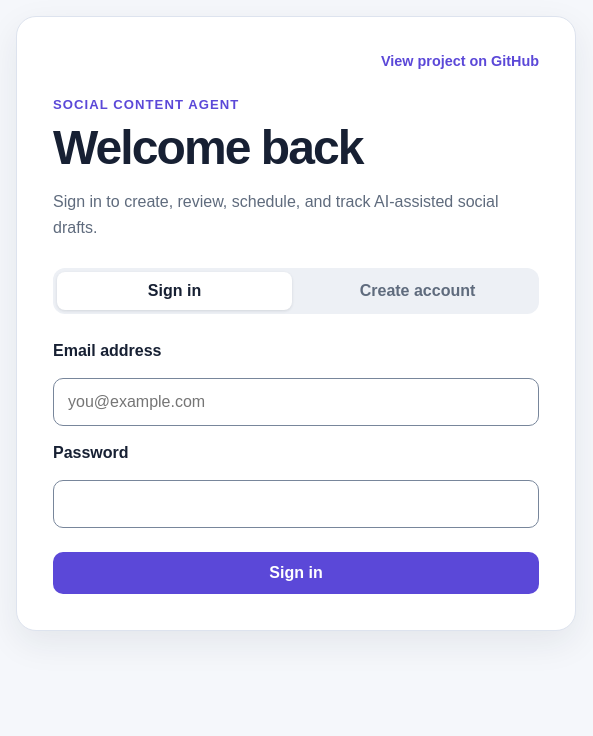
Test: supports keyboard mode switching and clears the old password
Type "old-password" into the password field labelled "Password".
click(296, 504); type("old-password")  # box [53, 480, 539, 528]
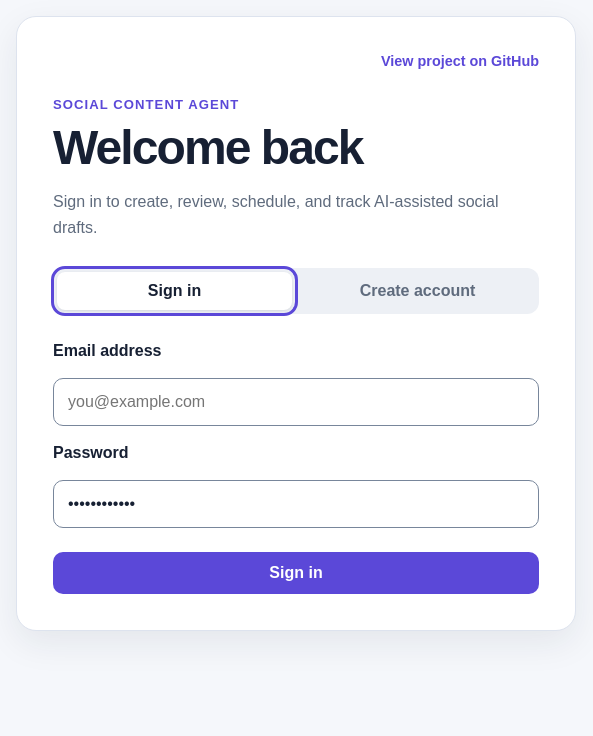
Press Arrowright
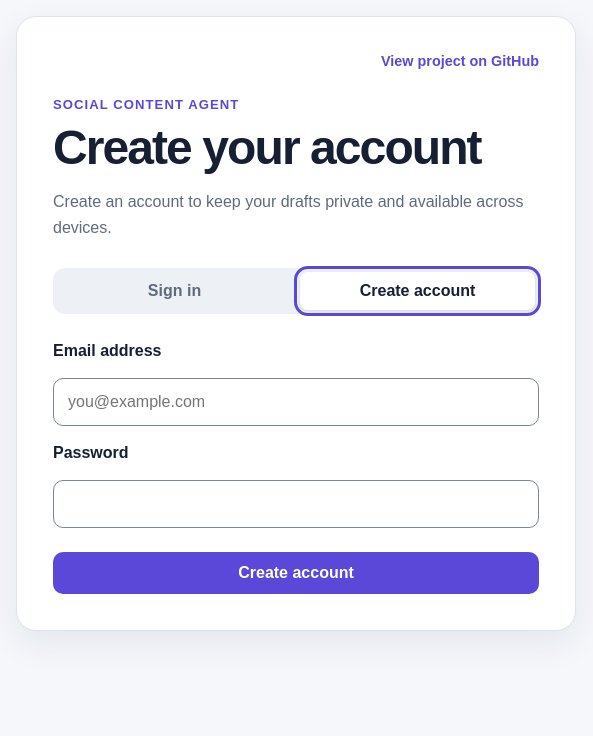
Now the password field labelled "Password" is empty, box [53, 480, 539, 528]
Type "tester@example.com" into the field labelled "Email address".
click(296, 402); type("tester@example.com")  # box [53, 378, 539, 426]
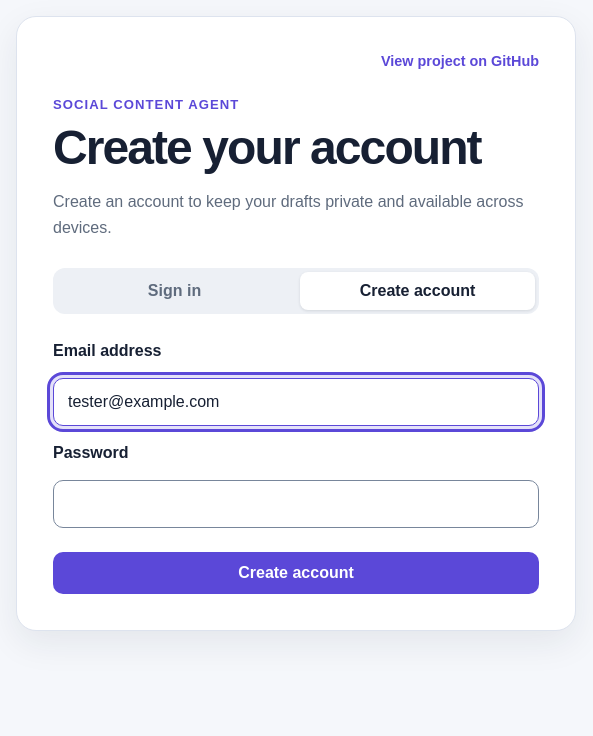
Type "test-password" into the password field labelled "Password".
click(296, 504); type("test-password")  # box [53, 480, 539, 528]
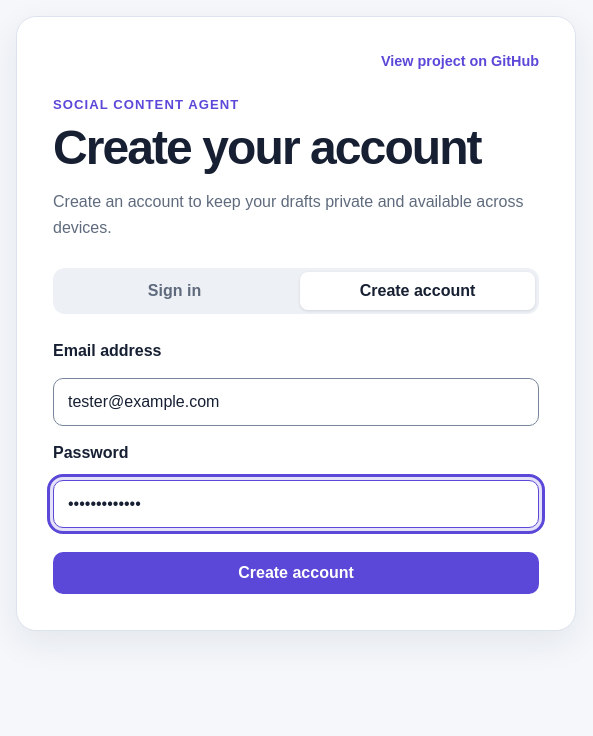
Click the button "Create account".
click(296, 573)  # box [53, 552, 539, 594]
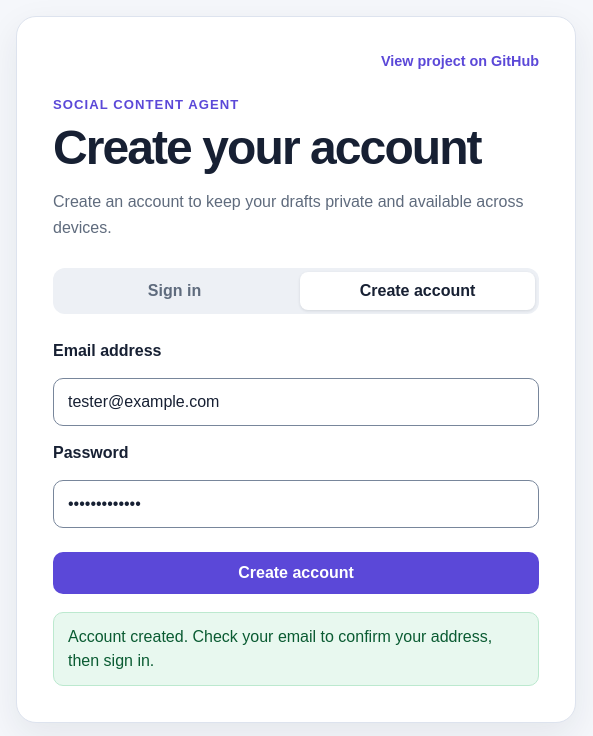
Now the message shows "Check your email", box [68, 628, 492, 669]
